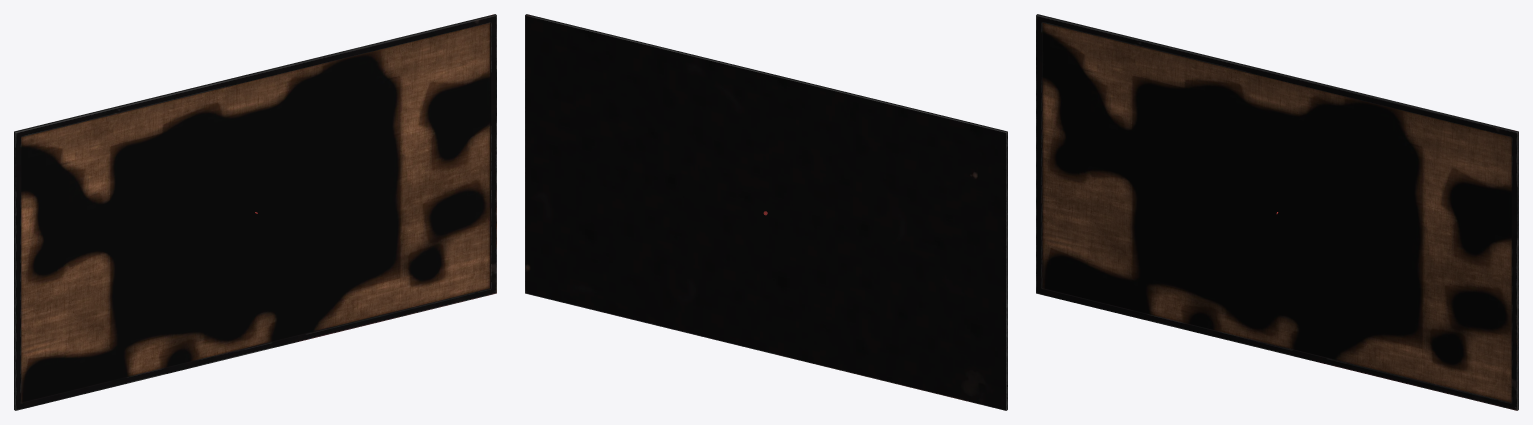
File: board.glb
3 renders of one model, left to right at view 1: azimuth 30°, elevation 25°; view 2: azimuth 150°, elevation 25°; view 3: azimuth 330°, elevation 25°, orthographic.
Visible parts, largest first — view 1: Board; view 2: Board; view 3: Board.
Boxes of the visible parts, <box> form: Board: <box>14,14,496,410</box>; Board: <box>525,14,1007,410</box>; Board: <box>1036,14,1518,410</box>.
Bounding box in the file's own units: 2.11 × 1.17 × 0.0306.
Materials: 1 (1 with a texture image).
